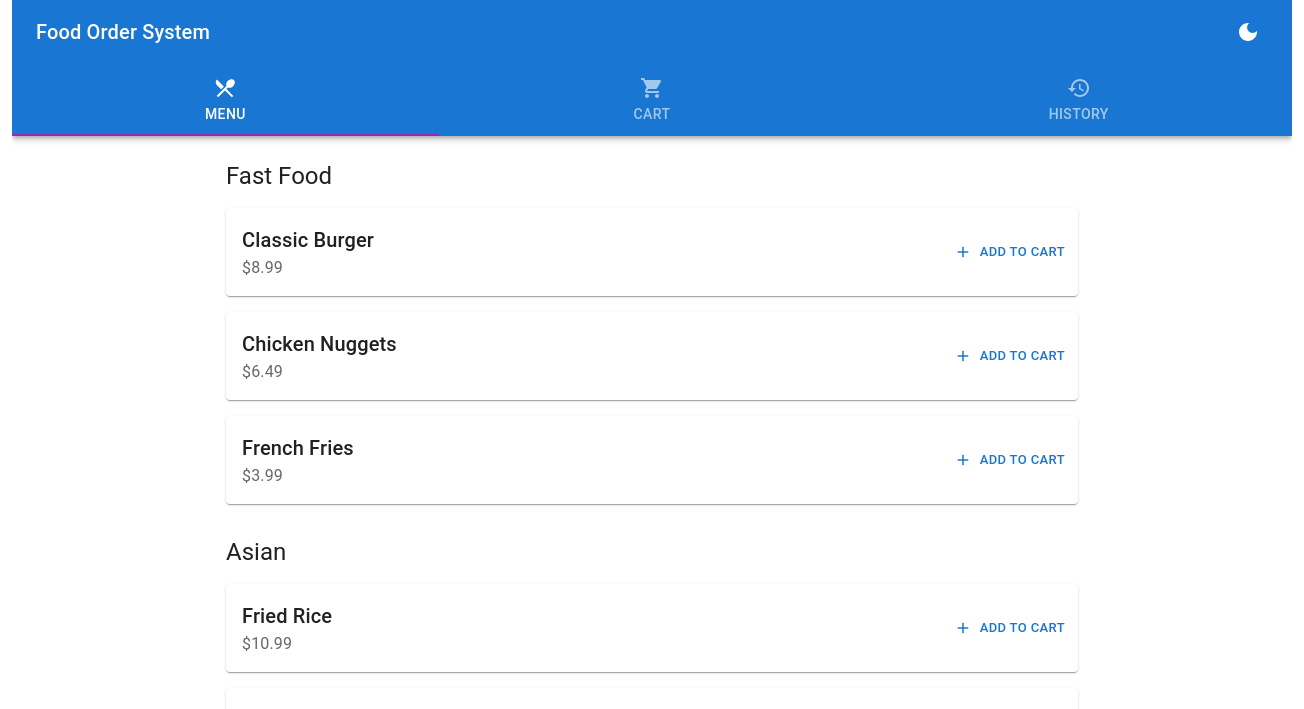
App › should switch to Cart tab when clicked
This screenshot has width=1304, height=709.
Step 1. Click the tab "Cart" → {"x": 652, "y": 100}, box [439, 64, 865, 136]
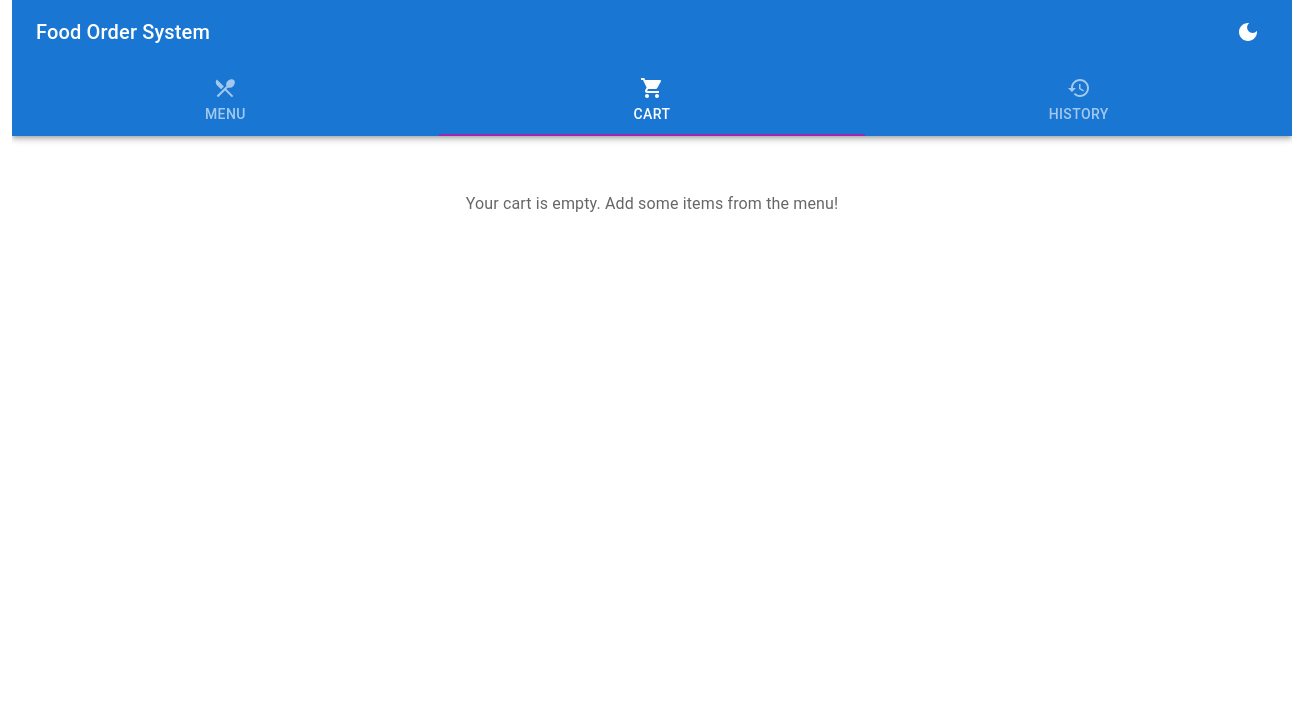
Now the text "Your cart is empty. Add some items from the menu!" is shown, box [466, 194, 838, 213]
